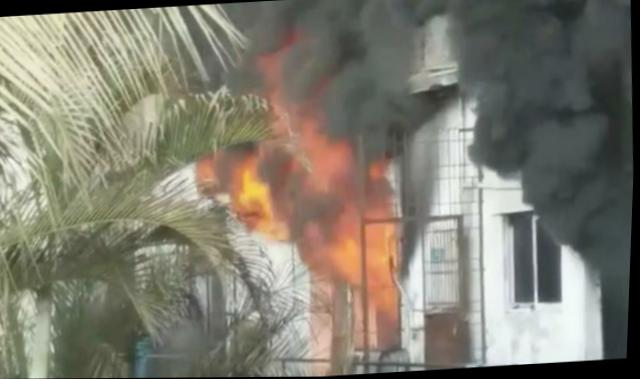fire: (330, 213, 411, 329), (365, 214, 408, 327), (300, 138, 364, 198), (335, 213, 370, 285), (232, 171, 279, 224)
smoke: (587, 0, 639, 316), (563, 0, 610, 269), (540, 0, 585, 239), (368, 0, 431, 139), (490, 0, 538, 175), (456, 0, 503, 171), (520, 0, 556, 211), (331, 0, 380, 142), (420, 0, 463, 85), (316, 0, 340, 139), (283, 44, 320, 86), (228, 1, 294, 24), (286, 193, 342, 219)
